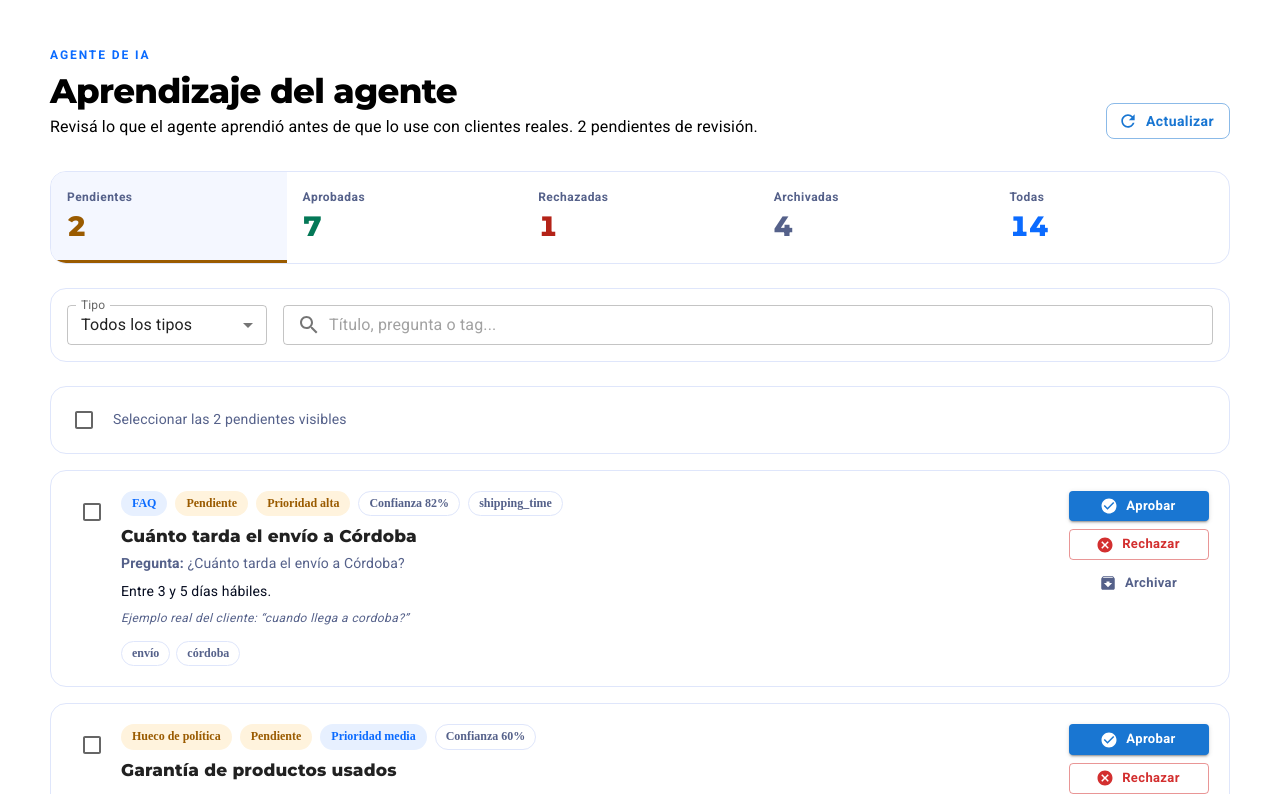
Test: Aprendizaje · acciones según el estado › archivar manda el id, sin pedir confirmación, y avisa
Click the button "Archivar" at [1139, 583], box [1069, 568, 1209, 599]
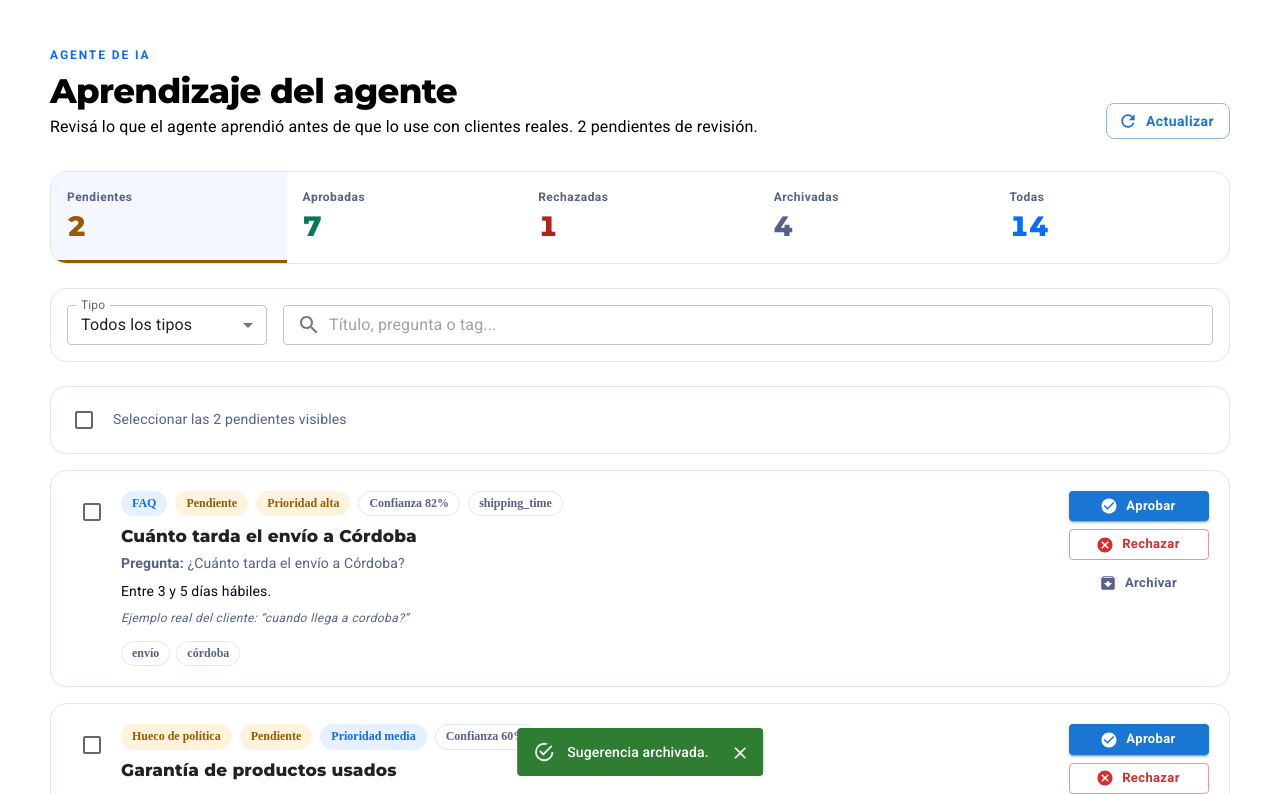
Now the text "Sugerencia archivada." is shown, box [567, 744, 709, 760]
